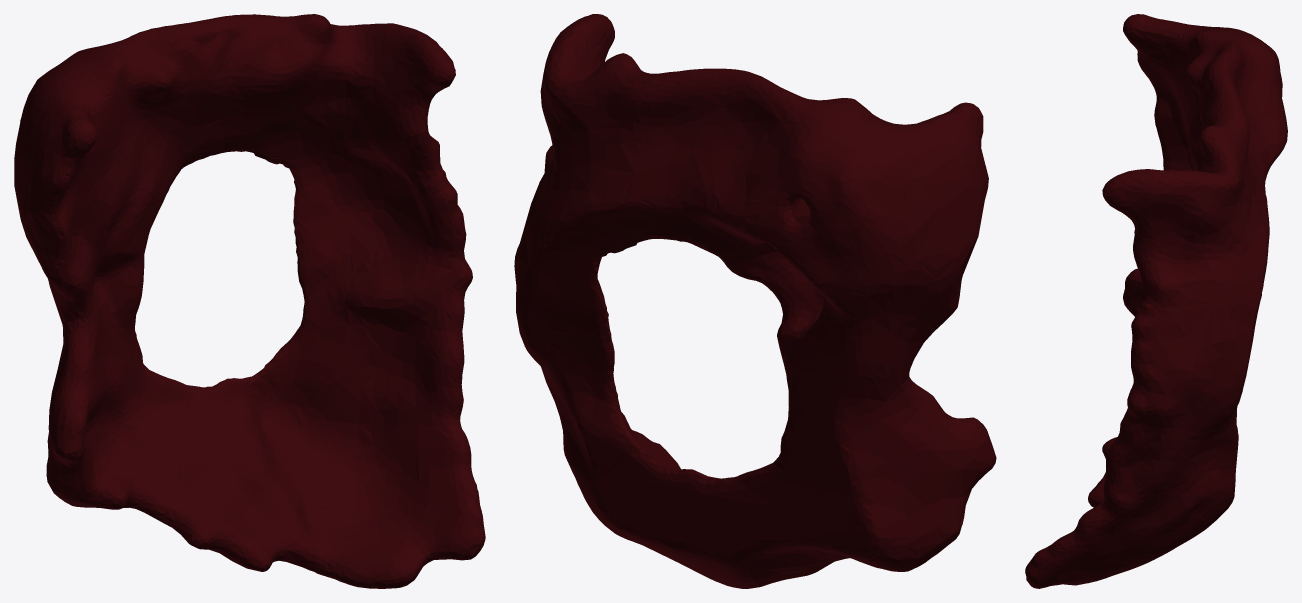
3 views of the same model, side by side, from view 1: azimuth 30°, elevation 25°; view 2: azimuth 150°, elevation 25°; view 3: azimuth 270°, elevation 25° (orthographic). The views are drawn at different scales.
Parts seen in each view (by area): view 1: Layer_1_1; view 2: Layer_1_1; view 3: Layer_1_1.
Part boxes in pixels (<box>): Layer_1_1: <box>14,14,485,588</box>; Layer_1_1: <box>514,14,996,588</box>; Layer_1_1: <box>1025,14,1287,588</box>.
Bounding box in the file's own units: 1.16 × 1.38 × 0.6986.
